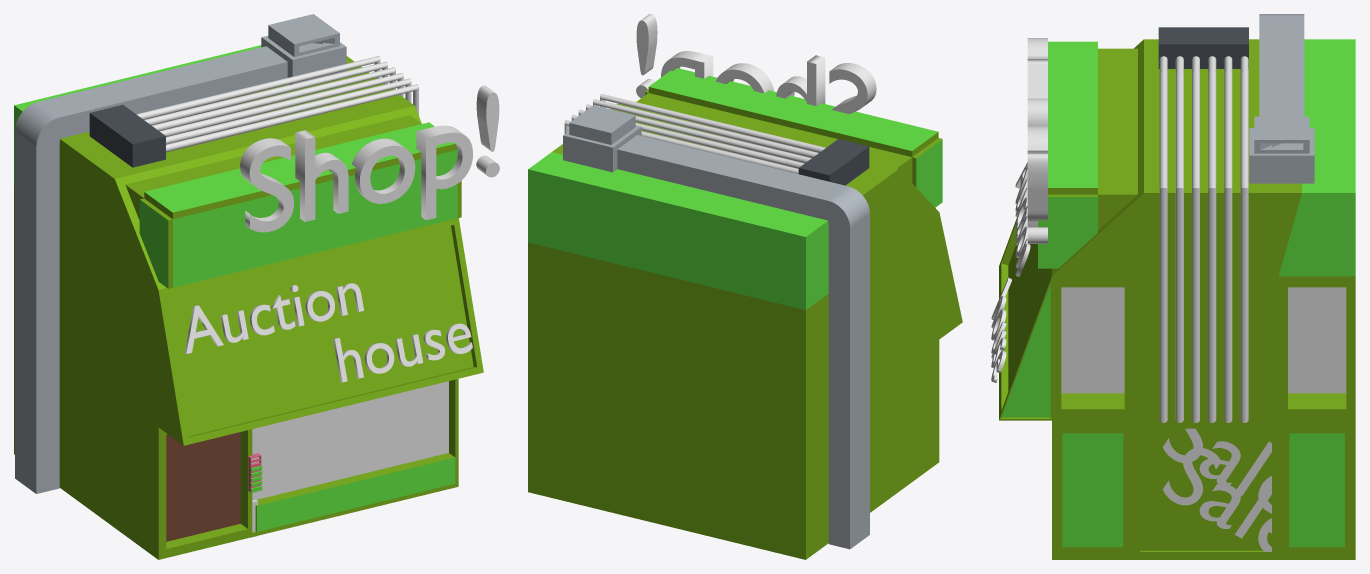
File: Shop.fbx
3 renders of one model, left to right at view 1: azimuth 30°, elevation 25°; view 2: azimuth 150°, elevation 25°; view 3: azimuth 270°, elevation 25°, orthographic. The views are drawn at different scales.
Visible parts, largest first — view 1: Куб, Куб.001, Текст, Плоскость.001, Текст.003, Куб.002; view 2: Куб, Куб.001, Плоскость.001, Текст, Куб.002; view 3: Куб, Плоскость.001, Куб.001, Текст, Куб.002, Текст.002, Текст.003, Текст.001.
Part boxes in pixels (<box>): Куб: <box>14,45,483,559</box>; Куб.001: <box>15,14,346,493</box>; Текст: <box>240,85,499,232</box>; Плоскость.001: <box>136,56,418,152</box>; Текст.003: <box>184,283,472,382</box>; Куб.002: <box>89,105,165,167</box>; Куб: <box>528,68,962,559</box>; Куб.001: <box>563,105,869,549</box>; Плоскость.001: <box>564,94,825,173</box>; Текст: <box>636,14,876,114</box>; Куб.002: <box>798,139,869,185</box>; Куб: <box>999,39,1355,559</box>; Плоскость.001: <box>1159,56,1248,422</box>; Куб.001: <box>1249,14,1314,183</box>; Текст: <box>1027,38,1047,243</box>; Куб.002: <box>1158,27,1248,68</box>; Текст.002: <box>1162,448,1271,551</box>; Текст.003: <box>991,162,1030,382</box>; Текст.001: <box>1163,428,1271,513</box>.
Bounding box in the file's own units: 266 × 287 × 226.
